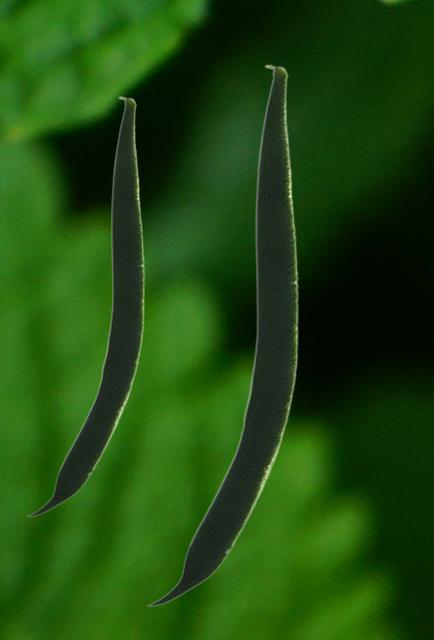french_bean: (146, 64, 297, 606), (26, 96, 143, 516)
